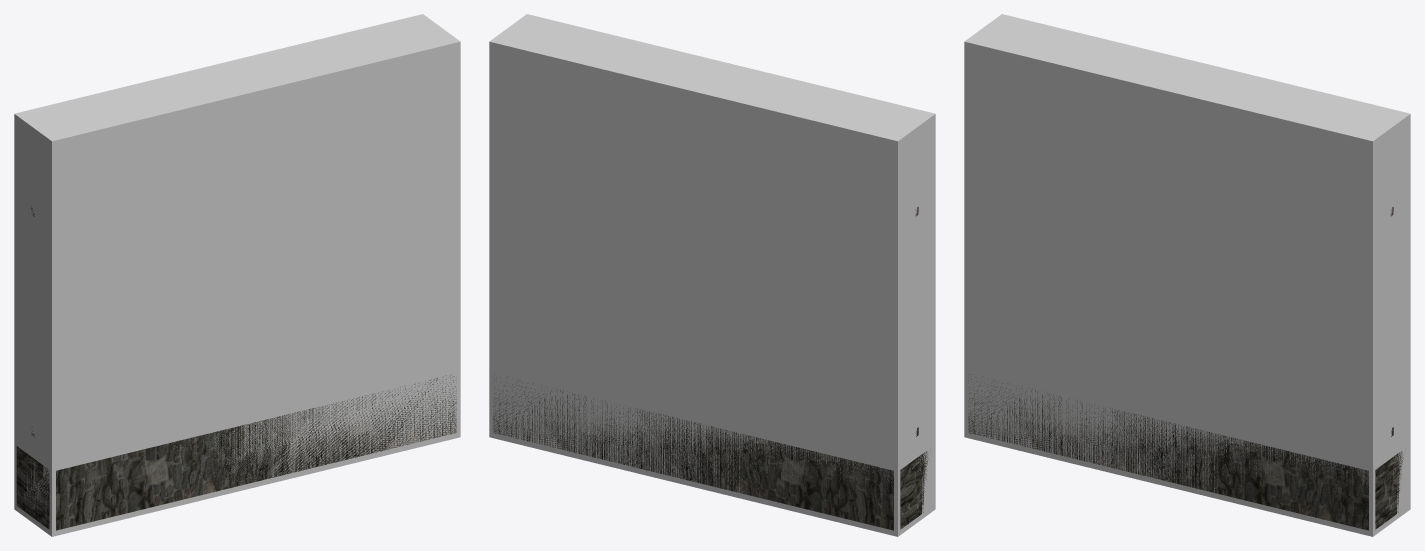
The model's file is iron_fence_gothic_v1.glb.
3 views of the same model, side by side, from view 1: azimuth 30°, elevation 25°; view 2: azimuth 150°, elevation 25°; view 3: azimuth 330°, elevation 25° (orthographic).
Parts seen in each view (by area): view 1: col_fence, fence; view 2: col_fence, fence; view 3: col_fence, fence.
Part boxes in pixels (<box>): col_fence: <box>14,14,460,536</box>; fence: <box>16,207,456,530</box>; col_fence: <box>489,14,935,536</box>; fence: <box>493,207,928,530</box>; col_fence: <box>964,14,1410,536</box>; fence: <box>968,207,1403,530</box>.
Bounding box in the file's own units: 2 × 1.85 × 0.32.
2 materials, 2 textured.
